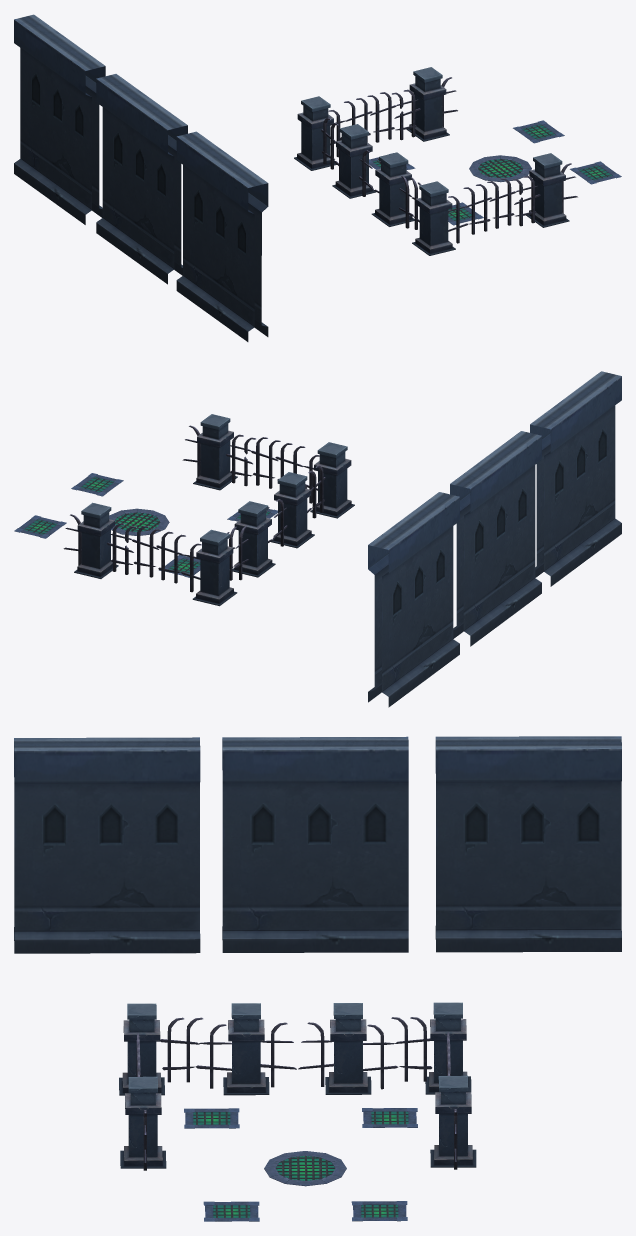
Rendered from Area_04_1.fbx.
3 renders of one model, top to bottom at view 1: azimuth 30°, elevation 25°; view 2: azimuth 150°, elevation 25°; view 3: azimuth 270°, elevation 25°, orthographic. The views are drawn at different scales.
Visible parts, largest first — view 1: Area_04_1; view 2: Area_04_1; view 3: Area_04_1.
Boxes of the visible parts, bbox=[...] form: Area_04_1: bbox=[14, 14, 621, 341]; Area_04_1: bbox=[14, 371, 621, 707]; Area_04_1: bbox=[14, 736, 621, 1221].
Bounding box in the file's own units: 5760 × 1893 × 5143.
